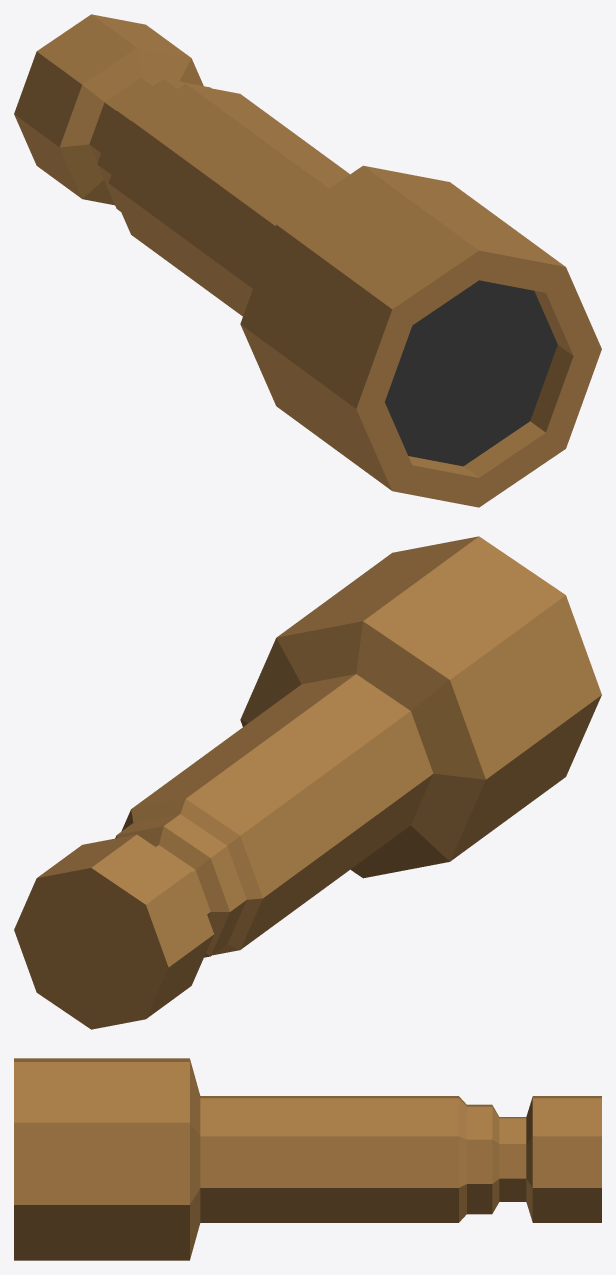
Rendered from SM_Item_Spyglass_02.glb.
The picture shows the model from 3 angles, top to bottom: view 1: azimuth 30°, elevation 25°; view 2: azimuth 150°, elevation 25°; view 3: azimuth 270°, elevation 25°; orthographic projection. The views are drawn at different scales.
Parts seen in each view (by area): view 1: SM_Item_Spyglass_02; view 2: SM_Item_Spyglass_02; view 3: SM_Item_Spyglass_02.
Part boxes in pixels (x1,y1,x2,y2): SM_Item_Spyglass_02: [14, 14, 601, 507]; SM_Item_Spyglass_02: [14, 536, 601, 1029]; SM_Item_Spyglass_02: [14, 1058, 601, 1260].
Size of the model in its own units: 0.000997 by 0.000997 by 0.00273.
